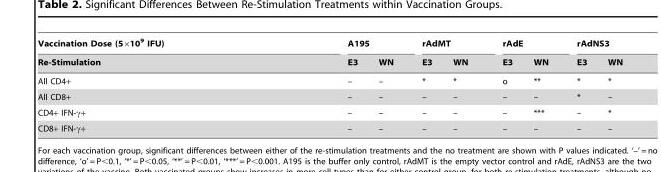table: (36, 37, 622, 132)
table column: (36, 37, 255, 132), (255, 37, 367, 132), (441, 37, 484, 132), (367, 37, 407, 132), (522, 37, 561, 132), (484, 37, 522, 132), (561, 37, 596, 132), (407, 37, 441, 132), (596, 37, 622, 132)
table column header: (36, 37, 622, 70)
table row: (36, 52, 622, 70), (36, 70, 622, 87), (36, 87, 622, 103), (36, 103, 622, 119), (36, 37, 622, 52), (36, 119, 622, 132)
table spanning cell: (36, 37, 255, 70), (255, 37, 407, 52), (407, 37, 484, 52), (484, 37, 561, 52), (561, 37, 622, 52)
